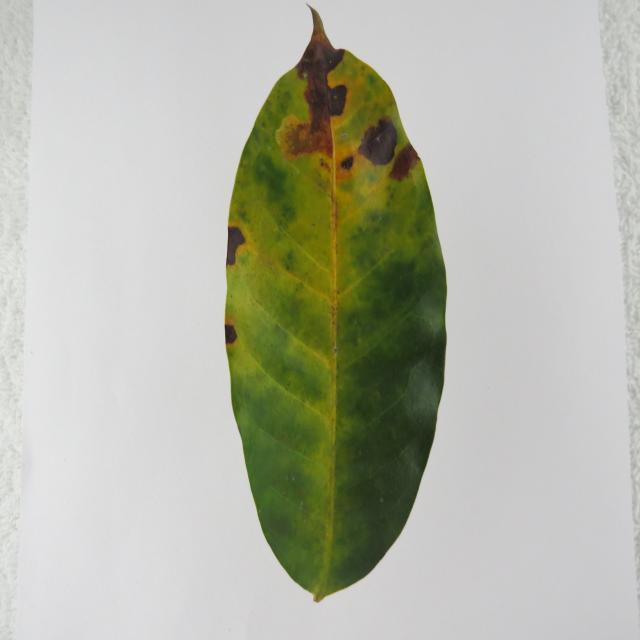DeficienciaNutricional-Potasio: (225, 10, 446, 602)
